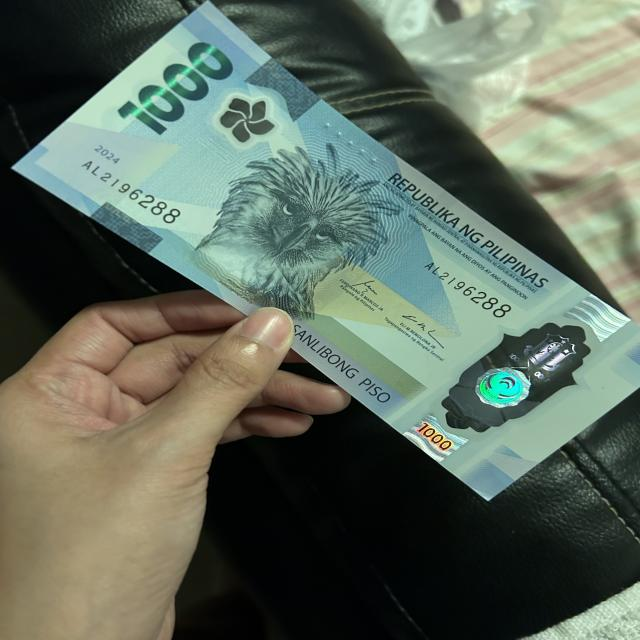clear_window: (446, 314, 603, 439)
eagle: (205, 152, 389, 309)
sampaguita: (210, 98, 278, 147)
